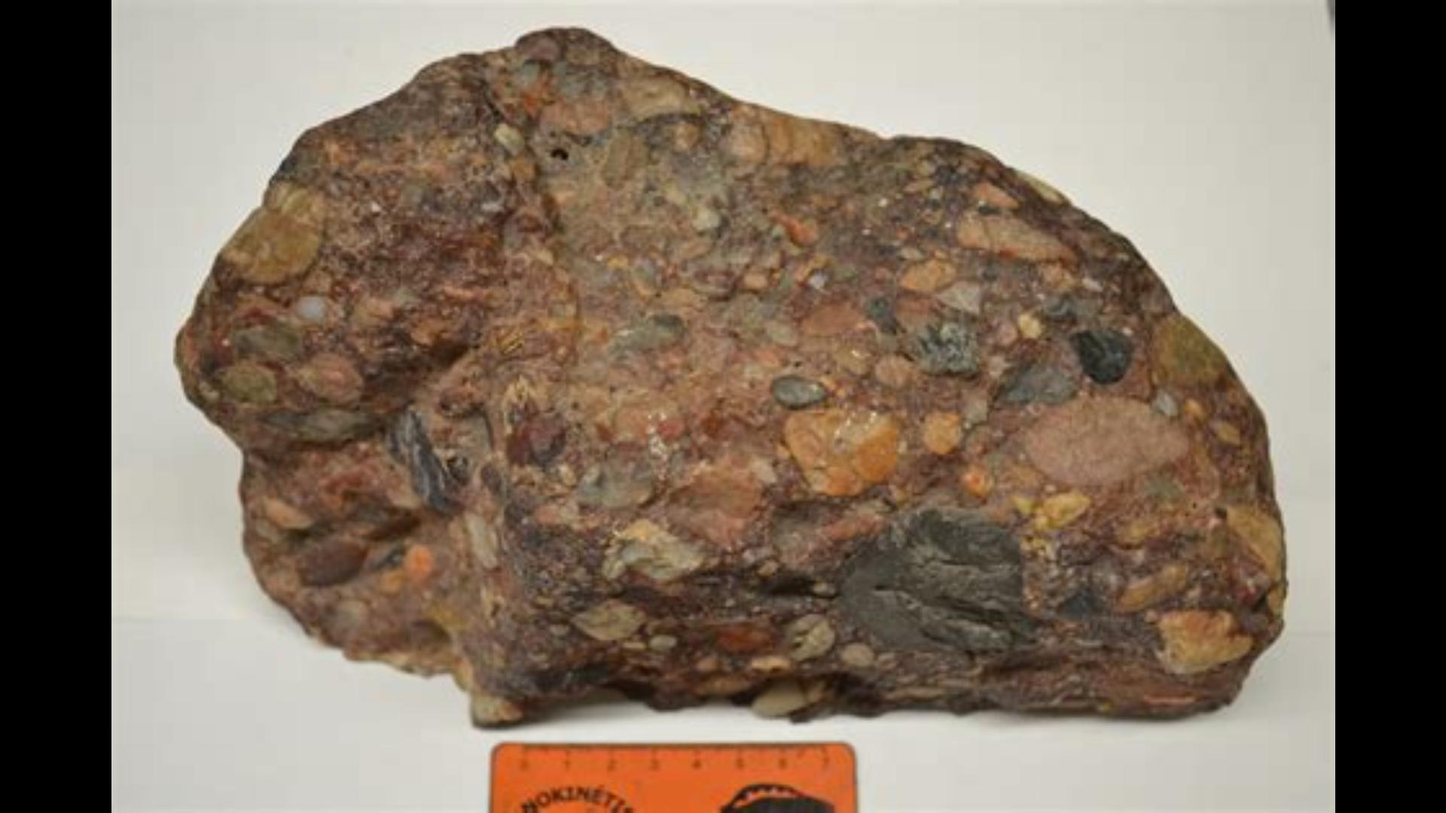rock: (178, 34, 1278, 723)
